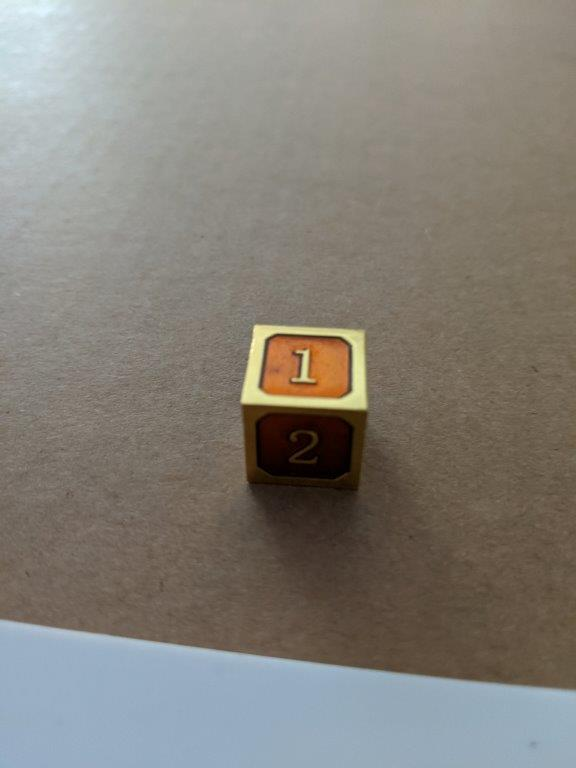d6-1: (237, 323, 369, 491)
